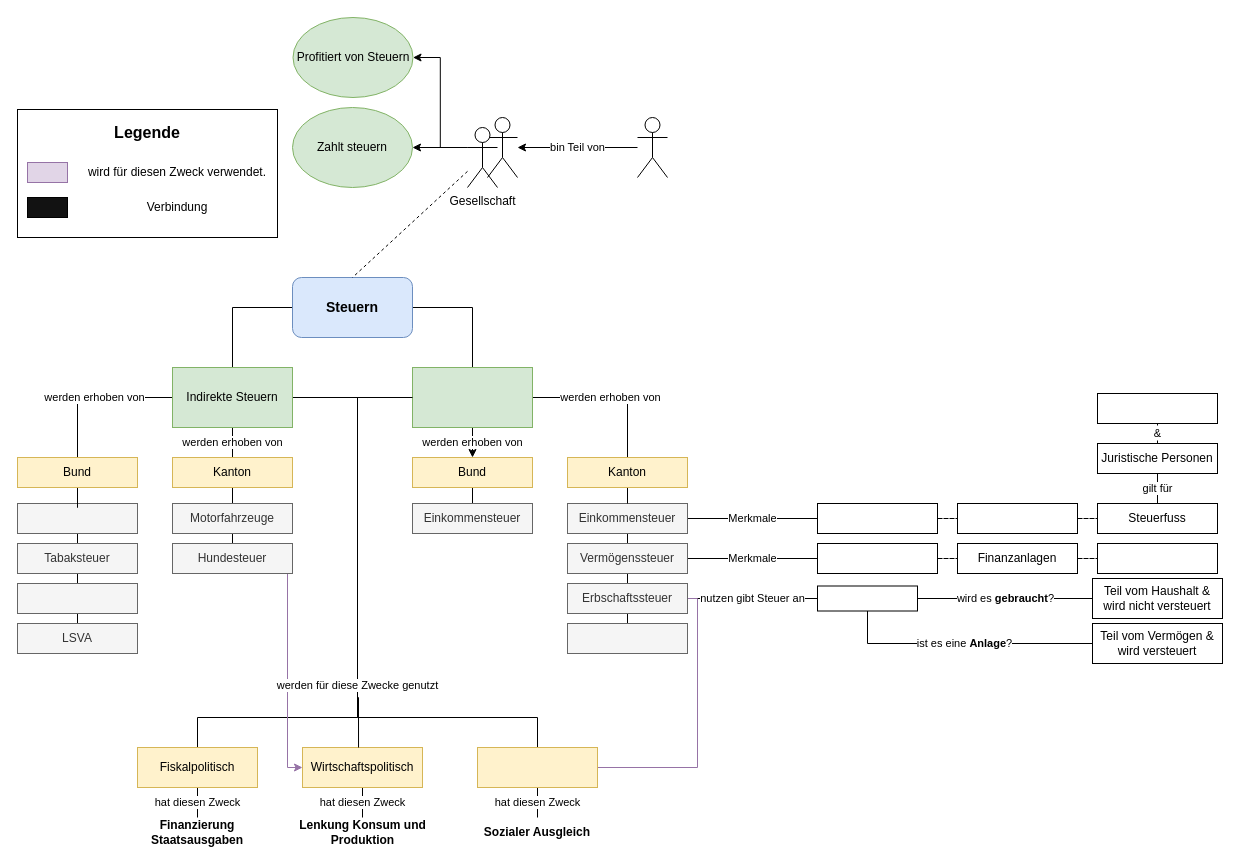
Some shapes in this 1240 by 865 pixel diagram are drawn without their labels. Each missing label, with the centre of its shape:
"Alkoholsteuer" belongs at pixel 77 598.
"Bewertungsmethoden" belongs at pixel 1157 558.
"Direkte Steuern" belongs at pixel 472 397.
"Ich" belongs at pixel 652 147.
"Immobilieren" belongs at pixel 877 558.
"Liegenschaftssteuer" belongs at pixel 627 638.
"Mehrwertsteuer" belongs at pixel 77 518.
"Natürliche Personen" belongs at pixel 1157 408.
"Schmuck" belongs at pixel 867 598.
"Sozialpolitisch" belongs at pixel 537 767.
"Steuerfreibetrag" belongs at pixel 877 518.
"Steuersätze" belongs at pixel 1017 518.
